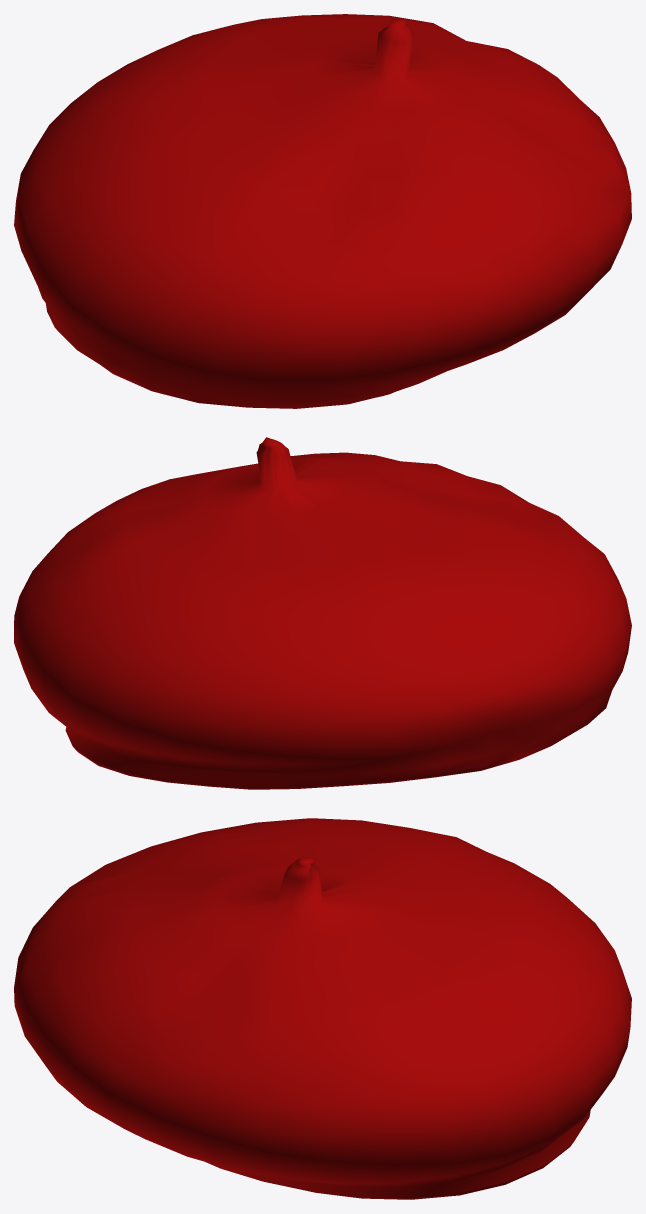
Rendered from boina.fbx.
3 renders of one model, top to bottom at view 1: azimuth 30°, elevation 25°; view 2: azimuth 150°, elevation 25°; view 3: azimuth 270°, elevation 25°, orthographic. The views are drawn at different scales.
Parts seen in each view (by area): view 1: Esfera UV; view 2: Esfera UV; view 3: Esfera UV.
Boxes of the visible parts, x1,y1,x2,y2 form: Esfera UV: (14,14,631,408); Esfera UV: (14,437,631,789); Esfera UV: (14,818,631,1199).
Size of the model in its own units: 203 by 98.19 by 197.
